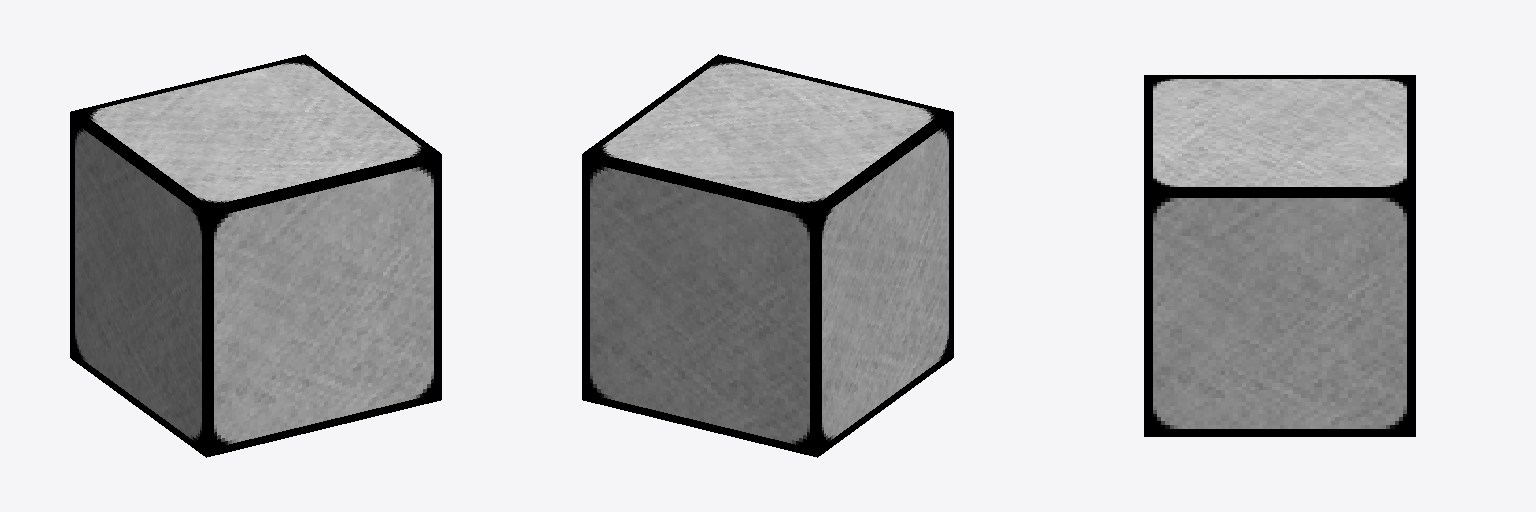
3 renders of one model, left to right at view 1: azimuth 30°, elevation 25°; view 2: azimuth 150°, elevation 25°; view 3: azimuth 270°, elevation 25°, orthographic.
Parts seen in each view (by area): view 1: cube1; view 2: cube1; view 3: cube1.
Part boxes in pixels (x1,y1,x2,y2): cube1: (70, 54, 441, 457); cube1: (582, 54, 953, 457); cube1: (1144, 75, 1415, 436).
Bounding box in the file's own units: 2 × 2 × 2.
3 materials, 1 textured.